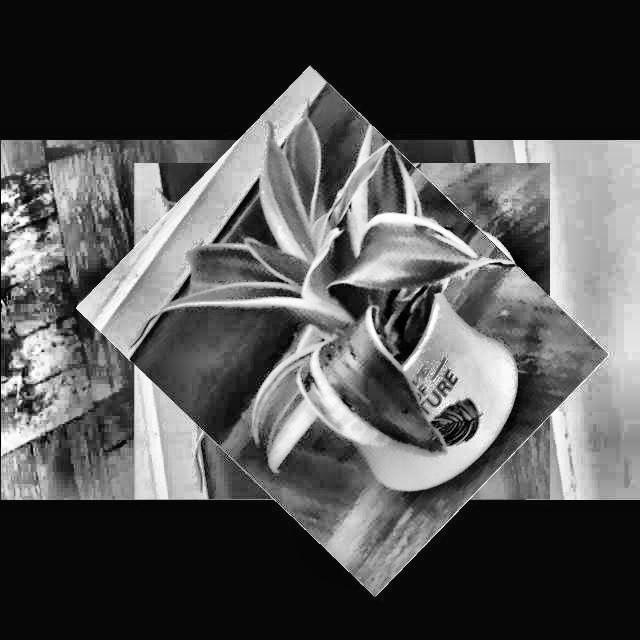plants: (105, 114, 580, 548)
